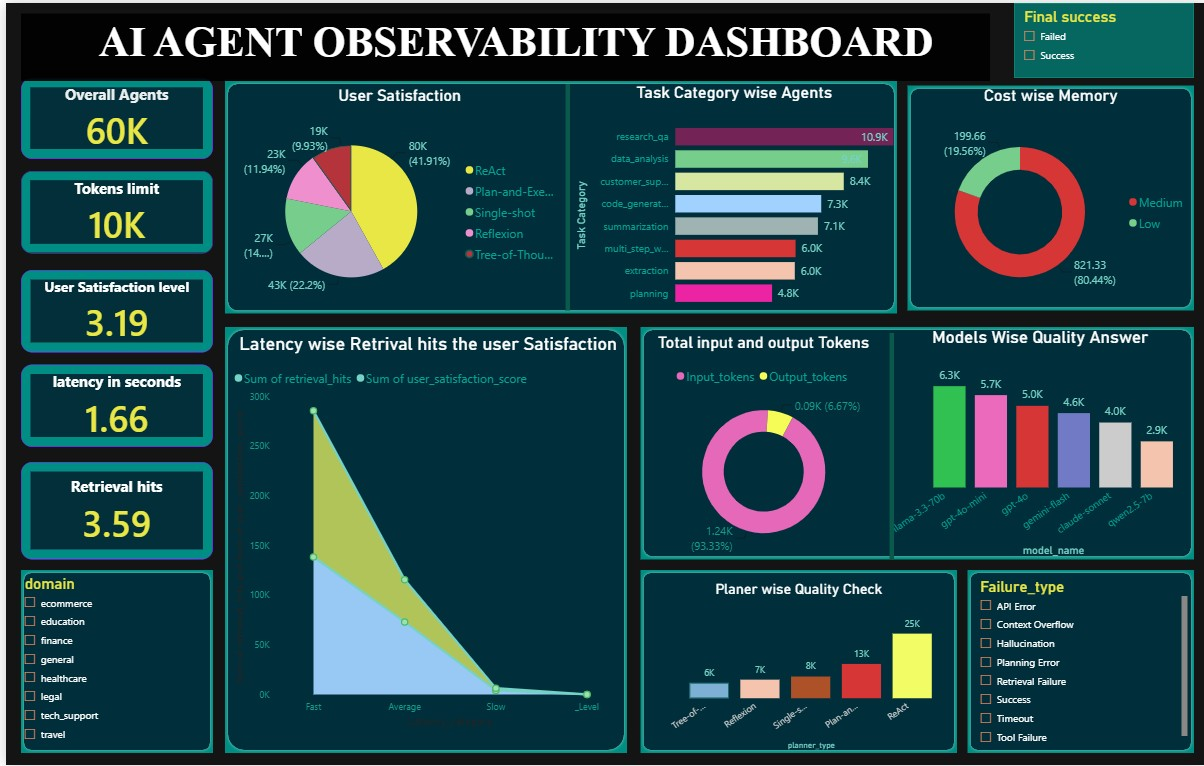

What the dashboard file says about the page in this screenshot:
{"tool":"powerbi","page":{"name":"Page 1","canvas":[1600,1017],"ordinal":0},"visuals":[{"type":"cardVisual","fields":{"Data":["CountNonNull(Agent_Data.agent_id)"]},"box":[20,100,256,108],"z":0},{"type":"cardVisual","fields":{"Data":["Avg(Agent_Data.user_satisfaction_score)"]},"box":[20,356,256,110],"z":1000},{"type":"cardVisual","fields":{"Data":["Max(Agent_Data.total_tokens)"]},"box":[20,224,256,110],"z":2000},{"type":"cardVisual","fields":{"Data":["Avg(Agent_Data.latency_seconds)"]},"box":[20,482,256,110],"z":3000},{"type":"cardVisual","fields":{"Data":["Avg(Agent_Data.retrieval_hits)"]},"box":[20,612,256,130],"z":4000},{"type":"textbox","box":[20,14,1292,90],"z":5000},{"type":"shape","box":[292,104,896,310],"z":6000},{"type":"shape","box":[1202,110,382,300],"z":7000},{"type":"pieChart","title":"User Satisfaction","fields":{"Y":["Sum(Agent_Data.user_satisfaction_score)"],"Category":["Agent_Data.planner_type"]},"box":[304,110,442,300],"z":8000},{"type":"clusteredBarChart","title":"Task Category wise Agents","fields":{"Category":["Agent_Data.task_category"],"Y":["CountNonNull(Agent_Data.agent_id)"]},"box":[754,106,434,310],"z":9000},{"type":"donutChart","title":"Cost wise Memory ","fields":{"Category":["Agent_Data.Cost Category"],"Y":["Avg(Agent_Data.memory_tokens_used)"]},"box":[1202,110,382,302],"z":10000},{"type":"shape","box":[292,432,536,568],"z":11000},{"type":"stackedAreaChart","title":"Latency wise Retrival hits the user Satisfaction","fields":{"Category":["Agent_Data.Latency_category"],"Y":["Sum(Agent_Data.retrieval_hits)","Sum(Agent_Data.user_satisfaction_score)"]},"box":[298,440,530,530],"z":12000},{"type":"shape","box":[846,432,738,310],"z":13000},{"type":"clusteredColumnChart","title":"Models Wise Quality Answer","fields":{"Category":["Agent_Data.model_name"],"Y":["Sum(Agent_Data.answer_quality_score)"]},"box":[1174,432,410,310],"z":14000},{"type":"donutChart","title":"Total input and output Tokens","fields":{"Y":["Avg(Agent_Data.input_tokens)","Avg(Agent_Data.output_tokens)"]},"box":[846,440,328,302],"z":15000},{"type":"shape","box":[1174,440,14,302],"z":16000},{"type":"shape","box":[740,108,18,302],"z":17000},{"type":"shape","box":[846,756,422,244],"z":18000},{"type":"shape","box":[1282,756,302,244],"z":19000},{"type":"shape","box":[20,756,256,244],"z":20000},{"type":"columnChart","title":"Planer wise Quality Check","fields":{"Category":["Agent_Data.planner_type"],"Y":["CountNonNull(Agent_Data.Quality)"]},"box":[846,770,422,230],"z":21000},{"type":"slicer","fields":{"Values":["Agent_Data.domain"]},"box":[12,756,270,244],"z":22000},{"type":"slicer","fields":{"Values":["Agent_Data.final_success"]},"box":[1344,0,240,100],"z":23000},{"type":"slicer","fields":{"Values":["Agent_Data.failure_type"]},"box":[1286,760,294,234],"z":24000}]}

Visuals, with their boxes in screenshot pixels (x1, y1, x2, y2), scaled from the page's 1600x1017 canvas onto the 1204x766 screenshot:
cardVisual - CountNonNull(Agent_Data.agent_id): locate(15, 75, 208, 157)
cardVisual - Avg(Agent_Data.user_satisfaction_score): locate(15, 268, 208, 351)
cardVisual - Max(Agent_Data.total_tokens): locate(15, 169, 208, 252)
cardVisual - Avg(Agent_Data.latency_seconds): locate(15, 363, 208, 446)
cardVisual - Avg(Agent_Data.retrieval_hits): locate(15, 461, 208, 559)
textbox: locate(15, 11, 987, 78)
shape: locate(220, 78, 894, 312)
shape: locate(905, 83, 1192, 309)
"User Satisfaction" pieChart: locate(229, 83, 561, 309)
"Task Category wise Agents" clusteredBarChart: locate(567, 80, 894, 313)
"Cost wise Memory " donutChart: locate(905, 83, 1192, 310)
shape: locate(220, 325, 623, 753)
"Latency wise Retrival hits the user Satisfaction" stackedAreaChart: locate(224, 331, 623, 731)
shape: locate(637, 325, 1192, 559)
"Models Wise Quality Answer" clusteredColumnChart: locate(883, 325, 1192, 559)
"Total input and output Tokens" donutChart: locate(637, 331, 883, 559)
shape: locate(883, 331, 894, 559)
shape: locate(557, 81, 570, 309)
shape: locate(637, 569, 954, 753)
shape: locate(965, 569, 1192, 753)
shape: locate(15, 569, 208, 753)
"Planer wise Quality Check" columnChart: locate(637, 580, 954, 753)
slicer - Agent_Data.domain: locate(9, 569, 212, 753)
slicer - Agent_Data.final_success: locate(1011, 0, 1192, 75)
slicer - Agent_Data.failure_type: locate(968, 572, 1189, 749)
